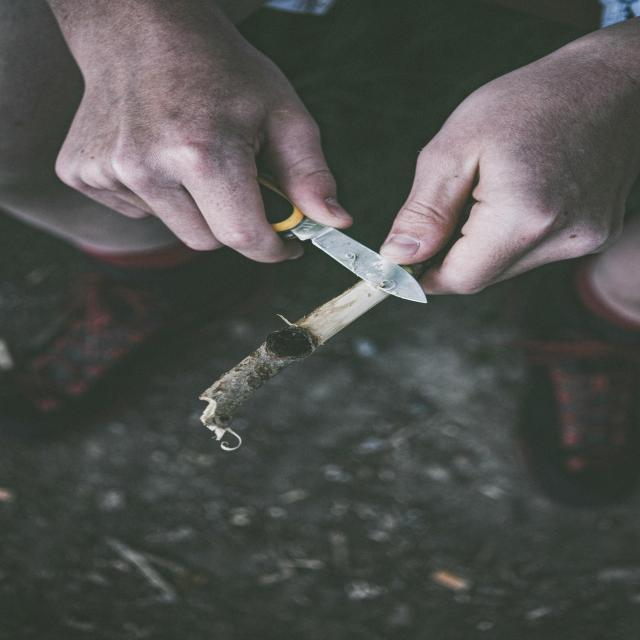Knife: (261, 184, 428, 304)
